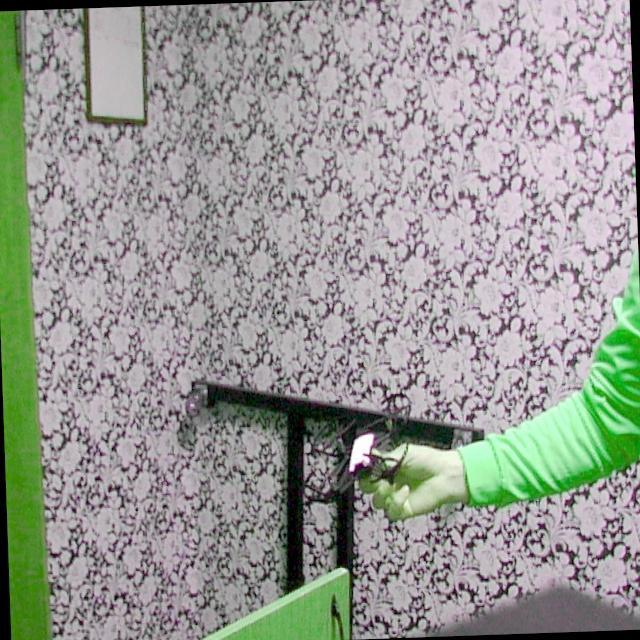drone: (295, 384, 423, 494)
